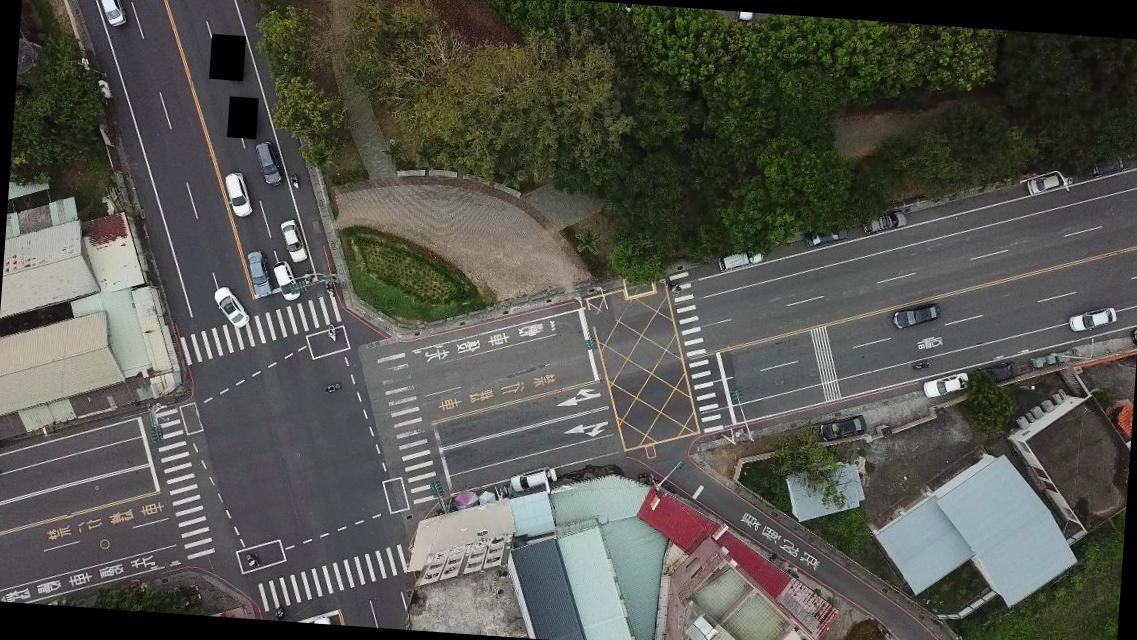vehicle: (505, 460, 560, 498), (815, 410, 868, 446), (210, 284, 252, 329), (1068, 302, 1120, 335), (220, 172, 256, 218), (920, 367, 970, 400), (251, 138, 284, 188), (1081, 152, 1134, 182), (968, 360, 1019, 390), (859, 208, 910, 238), (277, 218, 310, 264), (716, 246, 766, 276), (1024, 170, 1074, 200), (891, 300, 940, 330), (244, 250, 274, 298), (804, 222, 851, 252), (270, 260, 300, 302), (93, 0, 128, 27)
